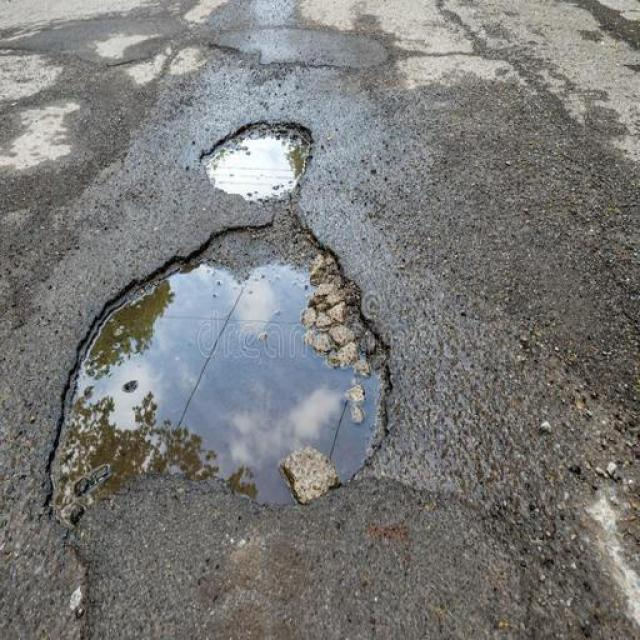puddle: (57, 243, 362, 501), (216, 137, 317, 213)
